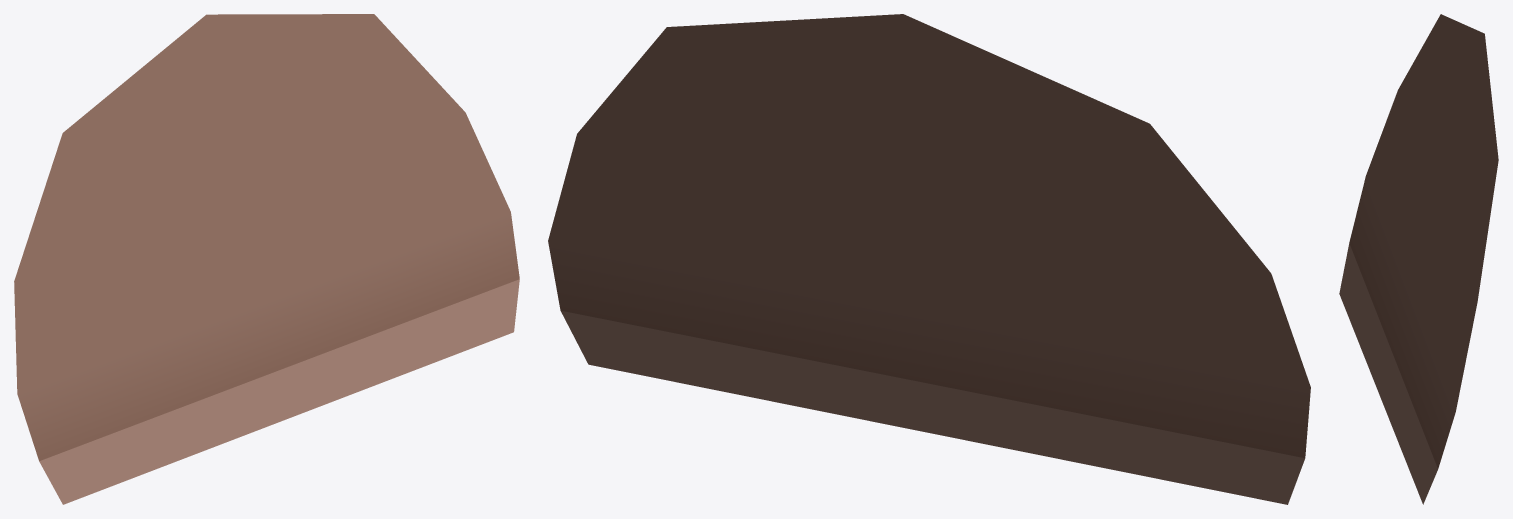
File: scareCrowTopEyeLidBrownLeft.glb
3 renders of one model, left to right at view 1: azimuth 30°, elevation 25°; view 2: azimuth 150°, elevation 25°; view 3: azimuth 270°, elevation 25°, orthographic. The views are drawn at different scales.
Visible parts, largest first — view 1: scareCrowTopEyeLidBrownLeft; view 2: scareCrowTopEyeLidBrownLeft; view 3: scareCrowTopEyeLidBrownLeft.
Part boxes in pixels (bbox=[...]): scareCrowTopEyeLidBrownLeft: bbox=[14, 14, 519, 504]; scareCrowTopEyeLidBrownLeft: bbox=[548, 14, 1310, 504]; scareCrowTopEyeLidBrownLeft: bbox=[1339, 14, 1498, 504].
Size of the model in its own units: 0.105 by 0.0706 by 0.0282.
